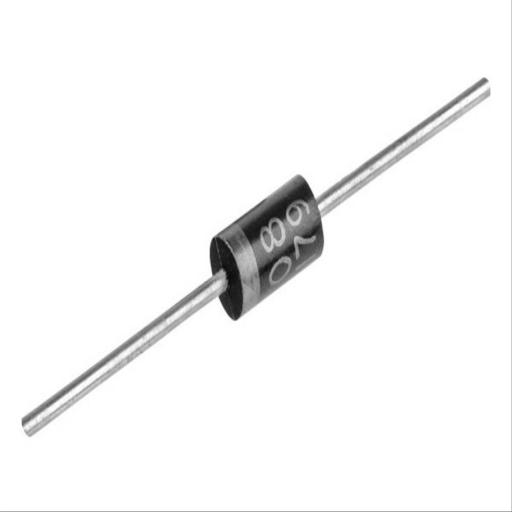DIODE: (20, 74, 491, 438)
